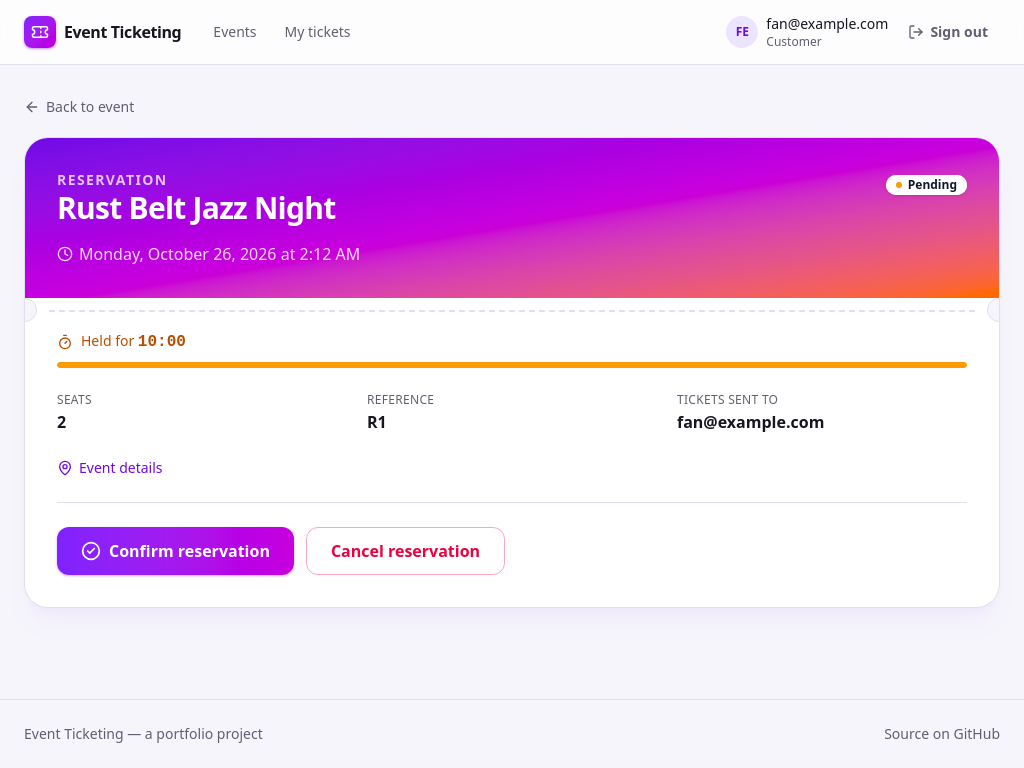
Test: ReservationPage › confirms a pending reservation and shows the updated status
Click the button "Confirm reservation" at (175, 551), box [57,527,294,575]
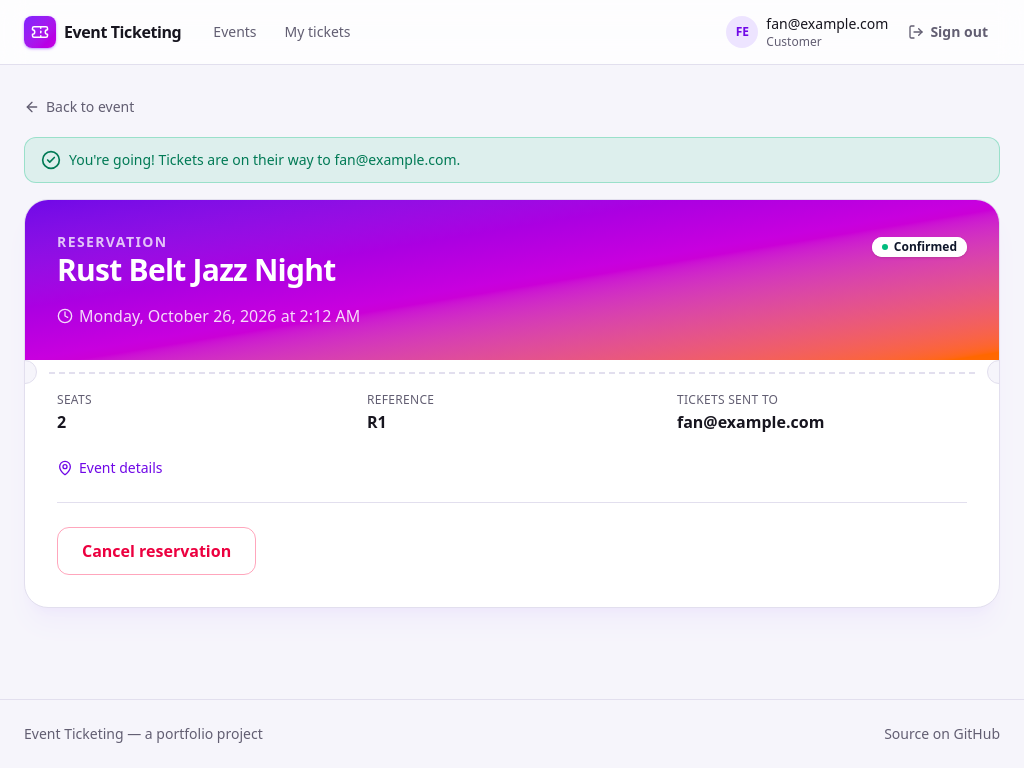
Result: the text "Confirmed" is shown at [872,237,967,257]
Result: the text "Held for" is gone
Result: the button "Confirm reservation" is gone
